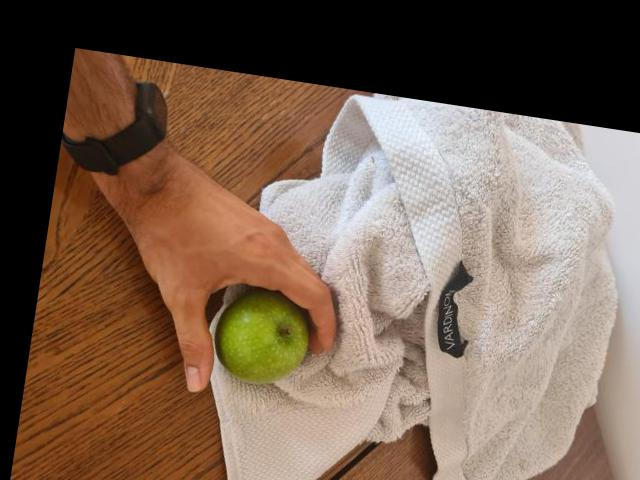apple: (205, 272, 307, 395)
